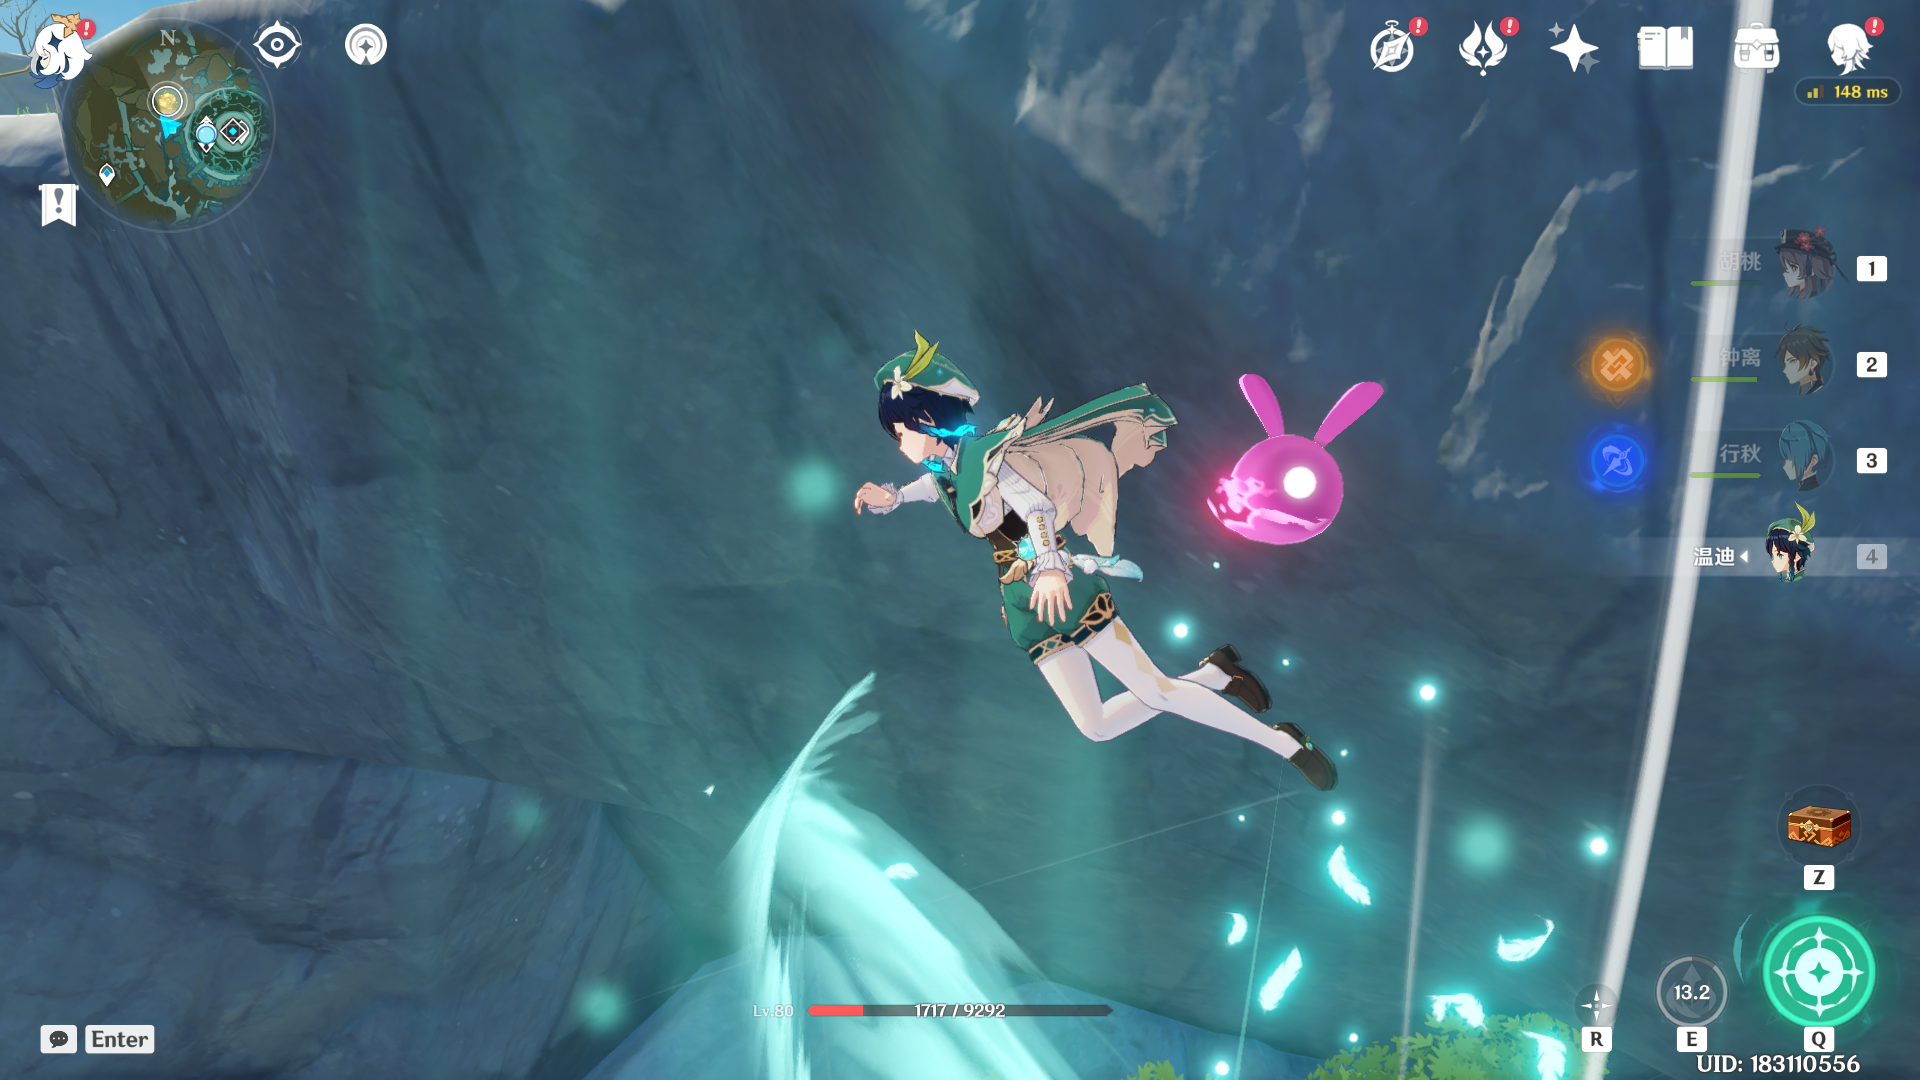character: (825, 307, 1358, 831)
